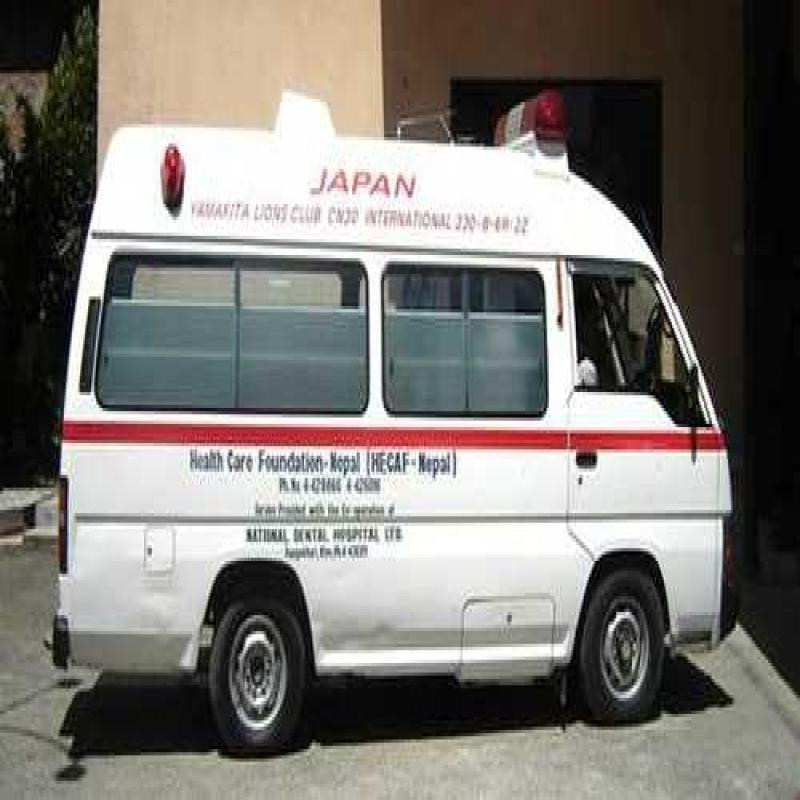AmbulanceSiren: (486, 72, 579, 169)
